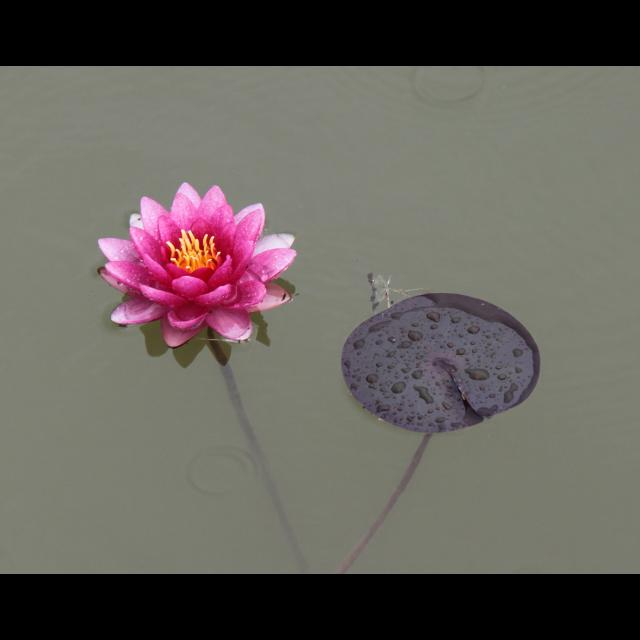Flower: (91, 180, 295, 356)
